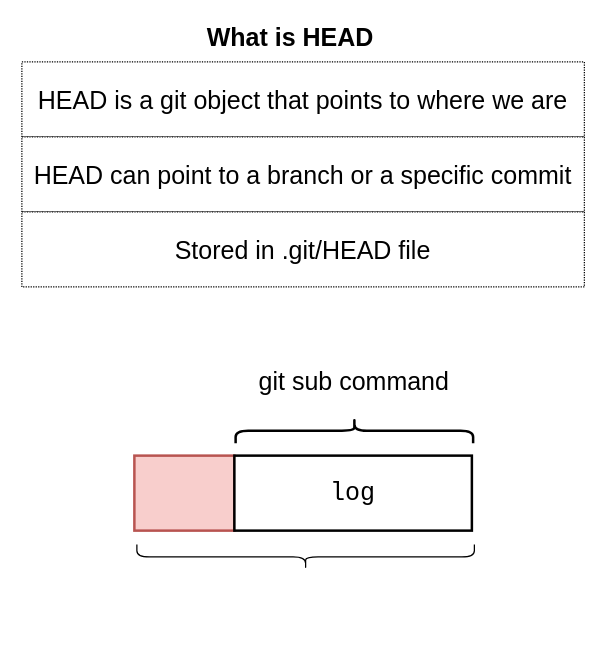
Some shapes in this 606 by 645 pixel diagram are drawn without their labels. Here are the shapes that lost their labels. From the top down, the box of each, then its label:
(132, 454, 235, 531): git
(136, 543, 474, 569): Show the git tree and the current commit pointed by HEAD
